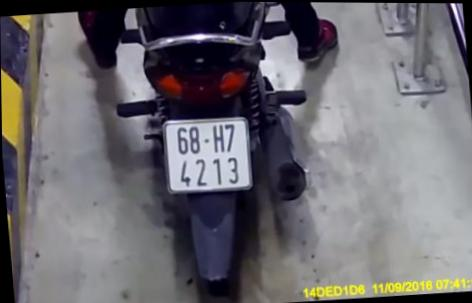LP: (160, 113, 255, 196)
